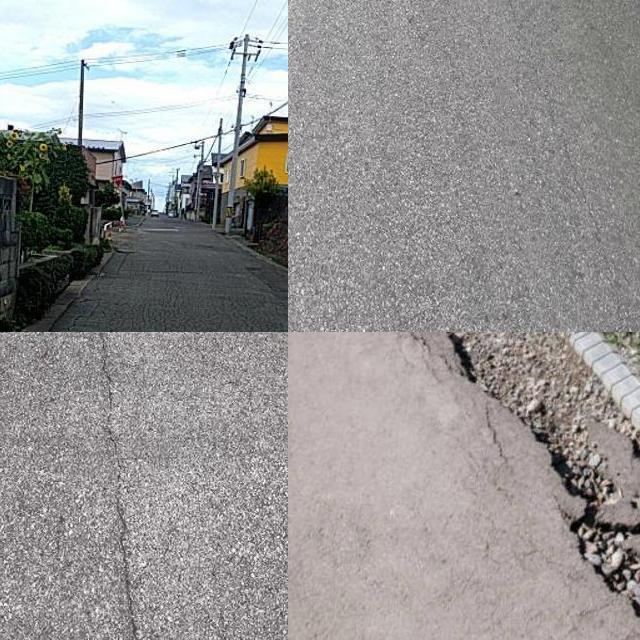Memanjang: (84, 332, 157, 640)
Pinggir: (411, 332, 640, 616)
